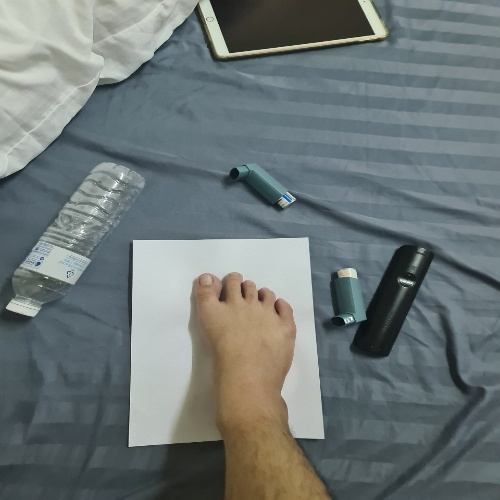Top_Foot: (99, 217, 347, 464)
